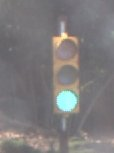Green: (43, 33, 87, 118)
